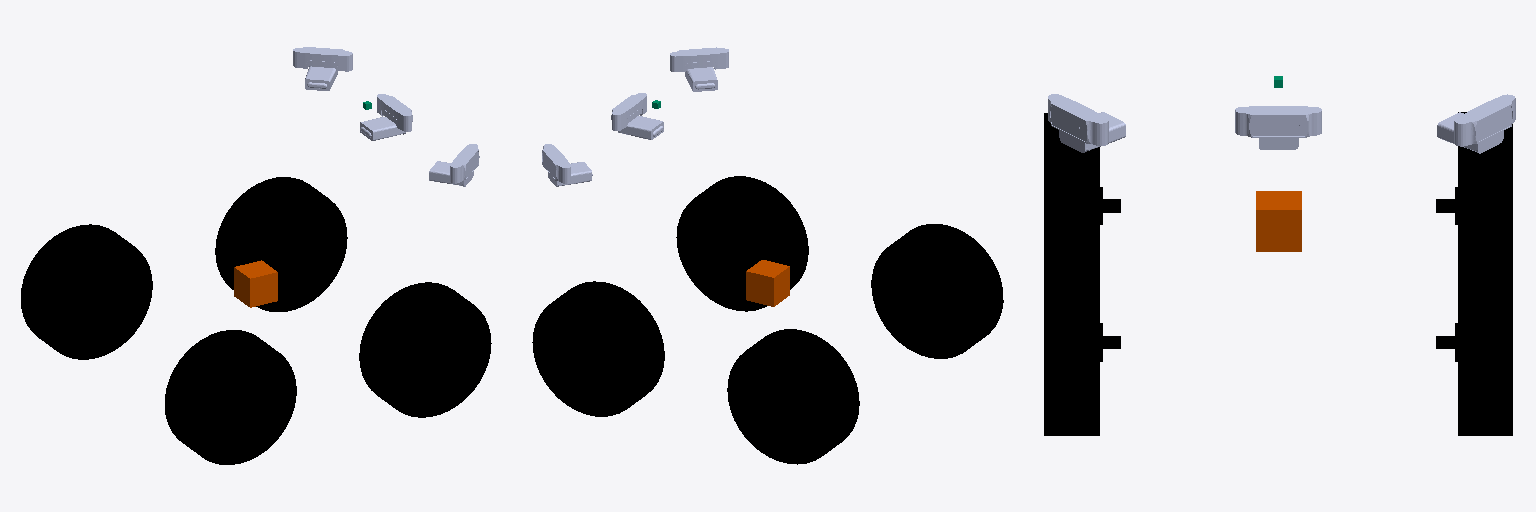
URDF robot description (Diff_Drive):
<robot
  name="Diff_Drive">

<material name="Black">
    <color rgba="0.0 0.0 0.0 1.0"/>
  </material>
 <material name="Red">
    <color rgba="1.0 0.0 0.0 1.0"/>
  </material>
<material name="Purple">
    <color rgba="1.0 0.0 1.0 1.0"/>
  </material>
  <material name="White">
    <color rgba="1.0 1.0 1.0 1.0"/>
  </material>
  <link
    name="chassis">
    <inertial>
      <origin
        xyz="0.0220555760345965 0.161947830488002 0.00246472847078245"
        rpy="0 0 0" />
      <mass
        value="3.20699343904828" />
      <inertia
        ixx="0.13688570826991"
        ixy="0.00644984234900775"
        ixz="0.00140330917613081"
        iyy="0.16416210230146"
        iyz="-0.000333391127469874"
        izz="0.193483332831202" />
    </inertial>
    <visual>
      <origin
        xyz="0 0 0"
        rpy="0 0 0" />
      <geometry>
        <mesh
          filename="package://caric/meshes/base_link.STL" />
      </geometry>
      <material
        name="">
        <color
          rgba="0.792156862745098 0.819607843137255 0.933333333333333 1" />
      </material>
    </visual>
    <collision>
      <origin
        xyz="0 0 0"
        rpy="0 0 0" />
      <geometry>
        <mesh
          filename="package://caric/meshes/base_link.STL" />
      </geometry>
    </collision>
  </link>
  <gazebo reference="chassis">
    <material>Gazebo/Purple</material>
    <turnGravityOff>false</turnGravityOff>
  </gazebo>
  <!--//////////////////////////////////////////////////////////////////////////////////////////WHEELS////////////////////////////////////////////////////////////////////////////////////////-->

  <link
    name="right_front_wheel">
    <inertial>
      <origin
        xyz="0 0 -0.05287"
        rpy="0 0 0" />
      <mass
        value="1.8356" />
      <inertia
        ixx="0.0052782"
        ixy="0"
        ixz="6.9559E-20"
        iyy="0.0052782"
        iyz="-4.3944E-20"
        izz="0.009441" />
    </inertial>
    <visual>
      <origin
        xyz="0 0 0"
        rpy="0 0 0" />
      <geometry>
        <mesh
          filename="package://caric/meshes/wheel1.STL" />
      </geometry>
      <material
        name="">
        <color
          rgba="0 0 0 1" />
      </material>
    </visual>
    <collision>
      <origin
        xyz="0 0 0"
        rpy="0 0 0" />
      <geometry>
        <mesh
          filename="package://caric/meshes/wheel1.STL" />
      </geometry>
    </collision>
  </link>
  <joint
    name="right_front_wheel_joint"
    type="continuous">
    <origin
      xyz="0.175 -0.171 -0.063512"
      rpy="1.5708 0.82674 -3.1416" />
    <parent
      link="chassis" />
    <child
      link="right_front_wheel" />
    <axis
      xyz="0 0 1" />
	<limit effort="100" velocity="100"/>
    <dynamics damping="0.0" friction="0.0"/>
  </joint>
  <gazebo reference="right_front_wheel">
    <material>Gazebo/Red</material>
    <turnGravityOff>false</turnGravityOff>
  </gazebo>
  <transmission name="right_front_wheel_trans">
    <type>transmission_interface/SimpleTransmission</type>
    <actuator name="right_front_wheel_motor">
      <hardwareInterface>EffortJointInterface</hardwareInterface>
      <mechanicalReduction>1</mechanicalReduction>
    </actuator>
    <joint name="right_front_wheel_joint">
      <hardwareInterface>hardware_interface/VelocityJointInterface</hardwareInterface>
    </joint>
  </transmission>




  <link
    name="right_back_wheel">
    <inertial>
      <origin
        xyz="0 -1.3878E-17 -0.05287"
        rpy="0 0 0" />
      <mass
        value="1.8356" />
      <inertia
        ixx="0.0052782"
        ixy="0"
        ixz="1.0627E-19"
        iyy="0.0052782"
        iyz="2.9689E-19"
        izz="0.009441" />
    </inertial>
    <visual>
      <origin
        xyz="0 0 0"
        rpy="0 0 0" />
      <geometry>
        <mesh
          filename="package://caric/meshes/wheel2.STL" />
      </geometry>
      <material
        name="">
        <color
          rgba="0 0 0 1" />
      </material>
    </visual>
    <collision>
      <origin
        xyz="0 0 0"
        rpy="0 0 0" />
      <geometry>
        <mesh
          filename="package://caric/meshes/wheel2.STL" />
      </geometry>
    </collision>
  </link>
  <joint
    name="right_back_wheel_joint"
    type="continuous">
    <origin
      xyz="-0.175 -0.171 -0.063512"
      rpy="1.5708 0.40594 -3.1416" />
    <parent
      link="chassis" />
    <child
      link="right_back_wheel" />
    <axis
      xyz="0 0 1" />
	<limit effort="100" velocity="100"/>
    <dynamics damping="0.0" friction="0.0"/>
  </joint>
<gazebo reference="right_back_wheel">
    <material>Gazebo/Black</material>
    <turnGravityOff>false</turnGravityOff>
  </gazebo>
  <transmission name="right_back_wheel_trans">
    <type>transmission_interface/SimpleTransmission</type>
    <actuator name="right_back_wheel_motor">
      <hardwareInterface>EffortJointInterface</hardwareInterface>
      <mechanicalReduction>1</mechanicalReduction>
    </actuator>
    <joint name="right_back_wheel_joint">
      <hardwareInterface>hardware_interface/VelocityJointInterface</hardwareInterface>
    </joint>
  </transmission>



  <link
    name="left_back_wheel">
    <inertial>
      <origin
        xyz="-1.9984E-15 -1.1102E-16 -0.05287"
        rpy="0 0 0" />
      <mass
        value="1.8356" />
      <inertia
        ixx="0.0052782"
        ixy="9.5979E-36"
        ixz="5.4289E-20"
        iyy="0.0052782"
        iyz="-8.8397E-35"
        izz="0.009441" />
    </inertial>
    <visual>
      <origin
        xyz="0 0 0"
        rpy="0 0 0" />
      <geometry>
        <mesh
          filename="package://caric/meshes/wheel3.STL" />
      </geometry>
      <material
        name="">
        <color
          rgba="0 0 0 1" />
      </material>
    </visual>
    <collision>
      <origin
        xyz="0 0 0"
        rpy="0 0 0" />
      <geometry>
        <mesh
          filename="package://caric/meshes/wheel3.STL" />
      </geometry>
    </collision>
  </link>
  <joint
    name="left_back_wheel_joint"
    type="continuous">
    <origin
      xyz="-0.175 0.171 -0.063512"
      rpy="1.5708 0 0" />
    <parent
      link="chassis" />
    <child
      link="left_back_wheel" />
    <axis
      xyz="0 0 -1" />
	<limit effort="100" velocity="100"/>
    <dynamics damping="0.0" friction="0.0"/>
  </joint>
 <gazebo reference="left_back_wheel">
    <material>Gazebo/Black</material>
    <turnGravityOff>false</turnGravityOff>
  </gazebo>

<transmission name="left_back_wheel_trans">
    <type>transmission_interface/SimpleTransmission</type>
    <actuator name="left_back_wheel_motor">
      <hardwareInterface>EffortJointInterface</hardwareInterface>
      <mechanicalReduction>1</mechanicalReduction>
    </actuator>
    <joint name="left_back_wheel_joint">
      <hardwareInterface>hardware_interface/VelocityJointInterface</hardwareInterface>
    </joint>
  </transmission>


  <link
    name="left_front_wheel">
    <inertial>
      <origin
        xyz="-1.9984E-15 9.7145E-17 -0.05287"
        rpy="0 0 0" />
      <mass
        value="1.8356" />
      <inertia
        ixx="0.0052782"
        ixy="-2.3237E-35"
        ixz="5.4289E-20"
        iyy="0.0052782"
        iyz="4.4199E-35"
        izz="0.009441" />
    </inertial>
    <visual>
      <origin
        xyz="0 0 0"
        rpy="0 0 0" />
      <geometry>
        <mesh
          filename="package://caric/meshes/wheel4.STL" />
      </geometry>
      <material
        name="">
        <color
          rgba="0 0 0 1" />
      </material>
    </visual>
    <collision>
      <origin
        xyz="0 0 0"
        rpy="0 0 0" />
      <geometry>
        <mesh
          filename="package://caric/meshes/wheel4.STL" />
      </geometry>
    </collision>
  </link>
  <joint
    name="left_front_wheel_joint"
    type="continuous">
    <origin
      xyz="0.175 0.171 -0.063512"
      rpy="1.5708 0 0" />
    <parent
      link="chassis" />
    <child
      link="left_front_wheel" />
    <axis
      xyz="0 0 -1" />
	<limit effort="100" velocity="100"/>
    <dynamics damping="0.0" friction="0.0"/>
  </joint>

 <gazebo reference="left_front_wheel">
    <material>Gazebo/Black</material>
    <turnGravityOff>false</turnGravityOff>
  </gazebo>
 <transmission name="left_front_wheel_trans">
    <type>transmission_interface/SimpleTransmission</type>
    <actuator name="left_front_wheel_motor">
      <hardwareInterface>EffortJointInterface</hardwareInterface>
      <mechanicalReduction>1</mechanicalReduction>
    </actuator>
    <joint name="left_front_wheel_joint">
      <hardwareInterface>hardware_interface/VelocityJointInterface</hardwareInterface>
    </joint>
  </transmission>

<!-- //////////////////////////////////////////////////////////////////////////ROS CONTROL PLUGIN/////////////////////////////////////////////////////////////////////////////////// -->
  <!-- -->
  <gazebo>
    <plugin filename="libgazebo_ros_control.so" name="gazebo_ros_control">
<legacyMode>false</legacyMode>
    </plugin>
  </gazebo>

<!-- ////////////////////////////////////////////////////////////////////////////////IMU//////////////////////////////////////////////////////////////////////////////////////////// -->
  <!--  -->
<link name="imu_link">
    <inertial>
        <mass value="0.001" />
        <origin xyz="0 0 0" />
        <inertia ixx="0.001" ixy="0.0" ixz="0.0"
                 iyy="0.001" iyz="0.0" 
                 izz="0.001" />
    </inertial>     
        <visual>
        <origin xyz="0 0 0" rpy="0 0 0" />
        <geometry>
            <box size = "0.05 0.05 0.05"/> 
                </geometry>
        </visual>   
    </link>

<joint name="imu_joint" type="fixed">
    <axis xyz="0 0 0"/>
    <origin xyz="0 0 0" rpy="0 0 0" />
    <parent link="chassis"/>
    <child link="imu_link" />
</joint>

<gazebo>    
    <plugin name="imu_plugin" filename="libgazebo_ros_imu.so">
        <alwaysOn>true</alwaysOn>       
        <bodyName>imu_link</bodyName>
        <topicName>imu</topicName>
        <serviceName>imu_service</serviceName>
        <gaussianNoise>0.0</gaussianNoise>
        <updateRate>200.0</updateRate> 
    </plugin>
	<sensor>
        <imu>
           <noise>
               <type>gaussian</type>
               <rate>
                   <mean>1e-4</mean>
                   <bias_mean>1e-4</bias_mean>
               </rate>
               <accel>
                   <mean>4e-3</mean>
                   <bias_mean>4e-3</bias_mean>
               </accel>
           </noise>
        </imu> 
        </sensor>
</gazebo>


<!-- ////////////////////////////////////////////////////////////////////////////////////////CAMERAS/////////////////////////////////////////////////////////////////////////////////////// -->
<!-- CENTER CAMERA -->
  <link
    name="Camera_Center">
    <inertial>
      <origin
        xyz="-0.023314 2.6056E-05 -0.0096081"
        rpy="0 0 0" />
      <mass
        value="0.092559" />
      <inertia
        ixx="5.2651E-05"
        ixy="2.5917E-08"
        ixz="-1.1292E-05"
        iyy="4.2146E-05"
        iyz="2.0055E-08"
        izz="6.5177E-05" />
    </inertial>
    <visual>
      <origin
        xyz="0 0 0"
        rpy="0 0 0" />
      <geometry>
        <mesh
          filename="package://caric/meshes/camera_c.STL" />
      </geometry>
      <material
        name="">
        <color
          rgba="0.79216 0.81961 0.93333 1" />
      </material>
    </visual>
    <collision>
      <origin
        xyz="0 0 0"
        rpy="0 0 0" />
      <geometry>
        <mesh
          filename="package://caric/meshes/camera_c.STL" />
      </geometry>
    </collision>
  </link>

  <joint
    name="cameraC_joint"
    type="fixed">
    <origin
      xyz="0.26303 0 0.23592"
      rpy="-6.123E-17 0 0" />
    <parent
      link="chassis" />
    <child
      link="Camera_Center" />
    <axis
      xyz="0 0 0" />
  </joint>
  <gazebo reference="Camera_Center">
    <sensor type="camera" name="cameraC">
      <update_rate>30.0</update_rate>
      <camera name="head">
        <horizontal_fov>1.36136</horizontal_fov>
        <image>
          <width>640</width>
          <height>480</height>
          <format>R8G8B8</format>
        </image>
        <clip>
          <near>0.02</near>
          <far>300</far>
        </clip>
        <noise>
          <type>gaussian</type>
          <!-- Noise is sampled independently per pixel on each frame.
               That pixel's noise value is added to each of its color
               channels, which at that point lie in the range [0,1]. -->
          <mean>0.0</mean>
          <stddev>0.007</stddev>
        </noise>
      </camera>
      <plugin name="camera_controller" filename="libgazebo_ros_camera.so">
        <alwaysOn>true</alwaysOn>
        <updateRate>0.0</updateRate>
        <cameraName>cameraC</cameraName>
        <imageTopicName>image_raw</imageTopicName>
        <cameraInfoTopicName>camera_info</cameraInfoTopicName>
        <frameName>center_camera</frameName>
        <hackBaseline>0.07</hackBaseline>
        <Cx>9.54542096e+02</Cx>
         <Cy>5.31043551e+02</Cy>
		<Fx>1.43129189e+03</Fx>
         <Fy>1.42867337e+03</Fy>
        <hackBaseline>0.07</hackBaseline>
        <distortionK1>0.03307883</distortionK1>
        <distortionK2>-0.04645629</distortionK2>
        <distortionK3>-0.00620612</distortionK3>
        <distortionT1>-0.00104783</distortionT1>
        <distortionT2>-0.01454176</distortionT2>
      </plugin>
    </sensor>
  </gazebo>

<!-- LEFT CAMERA -->
  <link
    name="Camera_Left">
    <inertial>
      <origin
        xyz="-0.023314 1.9345E-05 -0.0096081"
        rpy="0 0 0" />
      <mass
        value="0.092559" />
      <inertia
        ixx="5.2651E-05"
        ixy="2.5963E-08"
        ixz="-1.1292E-05"
        iyy="4.2146E-05"
        iyz="2.0062E-08"
        izz="6.5177E-05" />
    </inertial>
    <visual>
      <origin
        xyz="0 0 0"
        rpy="0 0 0" />
      <geometry>
        <mesh
          filename="package://caric/meshes/camera_l.STL" />
      </geometry>
      <material
        name="">
        <color
          rgba="0.79216 0.81961 0.93333 1" />
      </material>
    </visual>
    <collision>
      <origin
        xyz="0 0 0"
        rpy="0 0 0" />
      <geometry>
        <mesh
          filename="package://caric/meshes/camera_l.STL" />
      </geometry>
    </collision>
  </link>
  <joint
    name="cameraL_joint"
    type="fixed">
    <origin
      xyz="0.25843 0.23417 0.23692"
      rpy="-3.9358E-17 4.6905E-17 0.87266" />
    <parent
      link="chassis" />
    <child
      link="Camera_Left" />
    <axis
      xyz="0 0 0" />
  </joint>

  <gazebo reference="Camera_Left">
    <sensor type="camera" name="cameraL">
      <update_rate>30.0</update_rate>
      <camera name="head">
        <horizontal_fov>1.36136</horizontal_fov>
        <image>
          <width>640</width>
          <height>480</height>
          <format>R8G8B8</format>
        </image>
        <clip>
          <near>0.02</near>
          <far>300</far>
        </clip>
        <noise>
          <type>gaussian</type>
          <!-- Noise is sampled independently per pixel on each frame.
               That pixel's noise value is added to each of its color
               channels, which at that point lie in the range [0,1]. -->
          <mean>0.0</mean>
          <stddev>0.007</stddev>
        </noise>
      </camera>
      <plugin name="camera_controller" filename="libgazebo_ros_camera.so">
        <alwaysOn>true</alwaysOn>
        <updateRate>0.0</updateRate>
        <cameraName>cameraL</cameraName>
        <imageTopicName>image_raw</imageTopicName>
        <cameraInfoTopicName>camera_info</cameraInfoTopicName>
        <frameName>left_camera</frameName>
        <hackBaseline>0.07</hackBaseline>
        <Cx>9.54542096e+02</Cx>
         <Cy>5.31043551e+02</Cy>
		<Fx>1.43129189e+03</Fx>
         <Fy>1.42867337e+03</Fy>
        <hackBaseline>0.07</hackBaseline>
        <distortionK1>0.03307883</distortionK1>
        <distortionK2>-0.04645629</distortionK2>
        <distortionK3>-0.00620612</distortionK3>
        <distortionT1>-0.00104783</distortionT1>
        <distortionT2>-0.01454176</distortionT2>
      </plugin>
    </sensor>
  </gazebo>

<!-- RIGHT CAMERA -->
  <link
    name="Camera_Right">
    <inertial>
      <origin
        xyz="-0.023314 1.9332E-05 -0.0096081"
        rpy="0 0 0" />
      <mass
        value="0.092559" />
      <inertia
        ixx="5.2651E-05"
        ixy="2.5876E-08"
        ixz="-1.1292E-05"
        iyy="4.2146E-05"
        iyz="2.0049E-08"
        izz="6.5177E-05" />
    </inertial>
    <visual>
      <origin
        xyz="0 0 0"
        rpy="0 0 0" />
      <geometry>
        <mesh
          filename="package://caric/meshes/camera_r.STL" />
      </geometry>
      <material
        name="">
        <color
          rgba="0.79216 0.81961 0.93333 1" />
      </material>
    </visual>
    <collision>
      <origin
        xyz="0 0 0"
        rpy="0 0 0" />
      <geometry>
        <mesh
          filename="package://caric/meshes/camera_r.STL" />
      </geometry>
    </collision>
  </link>
  <joint
    name="cameraR_joint"
    type="fixed">
    <origin
      xyz="0.25737 -0.22806 0.23692"
      rpy="-3.9358E-17 -4.6905E-17 -0.87266" />
    <parent
      link="chassis" />
    <child
      link="Camera_Right" />
    <axis
      xyz="0 0 0" />
  </joint>
  <gazebo reference="Camera_Right">
    <sensor type="camera" name="cameraR">
      <update_rate>30.0</update_rate>
      <camera name="head">
        <horizontal_fov>1.36136</horizontal_fov>
        <image>
          <width>640</width>
          <height>480</height>
          <format>R8G8B8</format>
        </image>
        <clip>
          <near>0.02</near>
          <far>300</far>
        </clip>
        <noise>
          <type>gaussian</type>
          <!-- Noise is sampled independently per pixel on each frame.
               That pixel's noise value is added to each of its color
               channels, which at that point lie in the range [0,1]. -->
          <mean>0.0</mean>
          <stddev>0.007</stddev>
        </noise>
      </camera>
      <plugin name="camera_controller" filename="libgazebo_ros_camera.so">
        <alwaysOn>true</alwaysOn>
        <updateRate>0.0</updateRate>
        <cameraName>cameraR</cameraName>
        <imageTopicName>image_raw</imageTopicName>
        <cameraInfoTopicName>camera_info</cameraInfoTopicName>
        <frameName>right_camera</frameName>
        <hackBaseline>0.07</hackBaseline>
        <Cx>9.54542096e+02</Cx>
         <Cy>5.31043551e+02</Cy>
		<Fx>1.43129189e+03</Fx>
         <Fy>1.42867337e+03</Fy>
        <hackBaseline>0.07</hackBaseline>
        <distortionK1>0.03307883</distortionK1>
        <distortionK2>-0.04645629</distortionK2>
        <distortionK3>-0.00620612</distortionK3>
        <distortionT1>-0.00104783</distortionT1>
        <distortionT2>-0.01454176</distortionT2>
      </plugin>
    </sensor>
  </gazebo>

<!-- /////////////////////////////////////////////////////////////////////////////////////////GPS//////////////////////////////////////////////////////////////////////////////////////////// -->
  <!-- gps-->
<joint name="gps_joint" type="fixed">
    <axis xyz="0 1 0" />
    <origin xyz="0 0 0.01" rpy="0 0 0"/>
    <parent link="chassis"/>
    <child link="gps_link"/>
  </joint>

  <!-- gps -->
  <link name="gps_link">
    <visual>
      <origin xyz="0 0 0" rpy="0 0 0"/>
      <geometry>
    <box size="0.01 0.01 0.01"/>
      </geometry>
      <material name="red"/>
    </visual>

    <inertial>
      <mass value="1e-5" />
      <origin xyz="0 0 0" rpy="0 0 0"/>
      <inertia ixx="1e-6" ixy="0" ixz="0" iyy="1e-6" iyz="0" izz="1e-6" />
    </inertial>
  </link>


<gazebo>
    <plugin  name='gazebo_ros_gps' filename='libhector_gazebo_ros_gps.so'>
      <updateRate>50.0</updateRate>
      <bodyName>gps_link</bodyName>
      <frameId>gps_link</frameId>
      <topicName>/gps/fix</topicName>
      <velocityTopicName>/gps/fix_velocity</velocityTopicName>
      <referenceLatitude>-30.06022459407145675</referenceLatitude>
      <referenceLongitude>-51.173913575780311191</referenceLongitude>
      <referenceHeading>90</referenceHeading>
      <referenceAltitude>10</referenceAltitude>
      <offset>0 0 0</offset>
      <drift>0.001 0.001 0.001</drift>
      <gaussianNoise>0.05 0.05 0.05</gaussianNoise>
      <velocityDrift>0.001 0.001 0.001</velocityDrift>
      <velocityGaussianNoise>0.5 0.5 0.5</velocityGaussianNoise>
      <!--                <drift>0.001 0.001 0.001</drift>-->
      <!--                <gaussianNoise>0.01 0.01 0.01</gaussianNoise>-->
      <!--                <velocityDrift>0 0 0</velocityDrift>-->
      <!--                <velocityGaussianNoise>0.05 0.05 0.05</velocityGaussianNoise>-->
    </plugin>
  </gazebo>



<joint name="laser_joint" type="fixed">
    <axis xyz="0 1 0" />
    <origin xyz="0.20 0 0.26" rpy="0 0 0"/>
    <parent link="chassis"/>
    <child link="laser_scanner"/>
  </joint>

  <!-- laser -->
  <link name="laser_scanner">
    <visual>
      <origin xyz="0 0 0" rpy="0 0 0"/>
      <geometry>
    <box size="0.01 0.01 0.01"/>
      </geometry>
      <material name="red"/>
    </visual>

    <inertial>
      <mass value="1e-5" />
      <origin xyz="0 0 0" rpy="0 0 0"/>
      <inertia ixx="1e-6" ixy="0" ixz="0" iyy="1e-6" iyz="0" izz="1e-6" />
    </inertial>
  </link>
  <gazebo reference="laser_scanner">
    <sensor type="ray" name="head_hokuyo_sensor">
      <pose>0 0 0 0 0 0</pose>
      <visualize>true</visualize>
      <update_rate>40</update_rate>
      <ray>
        <scan>
          <horizontal>
            <samples>120</samples>
            <resolution>1</resolution>
            <min_angle>-1.570796</min_angle>
            <max_angle>1.570796</max_angle>
          </horizontal>
        </scan>
        <range>
          <min>0.8</min>
          <max>5.0</max>
          <resolution>0.01</resolution>
        </range>
        <noise>
          <type>gaussian</type>
          <!-- Noise parameters based on published spec for Hokuyo laser
               achieving "+-30mm" accuracy at range < 10m.  A mean of 0.0m and
               stddev of 0.01m will put 99.7% of samples within 0.03m of the true
               reading. -->
          <mean>0.0</mean>
          <stddev>0.01</stddev>
        </noise>
      </ray>
      <plugin name="gazebo_ros_head_hokuyo_controller" filename="libgazebo_ros_laser.so">
        <topicName>/scan</topicName>
        <frameName>laser_scanner</frameName>
      </plugin>
    </sensor>
  </gazebo>
</robot>

--- Render facts (derived) ---
The picture shows the robot from 3 angles, left to right: view 1: azimuth 30°, elevation 25°; view 2: azimuth 150°, elevation 25°; view 3: azimuth 270°, elevation 25°; orthographic projection.
Robot: Diff_Drive — 11 links, 10 joints (4 continuous, 6 fixed); root link chassis; default pose: all joints at 0.
Visible links, largest first — view 1: right_front_wheel, left_back_wheel, right_back_wheel, left_front_wheel, Camera_Left, imu_link, Camera_Center, Camera_Right; view 2: left_front_wheel, left_back_wheel, right_back_wheel, right_front_wheel, Camera_Right, imu_link, Camera_Center, Camera_Left; view 3: right_front_wheel, left_front_wheel, right_back_wheel, left_back_wheel, Camera_Center, Camera_Left, Camera_Right, imu_link.
Boxes of the visible links, x1,y1,x2,y2 form: right_front_wheel: (359,282,491,417); left_back_wheel: (21,224,152,359); right_back_wheel: (165,330,296,464); left_front_wheel: (215,177,347,311); Camera_Left: (293,47,352,90); imu_link: (234,260,277,307); Camera_Center: (360,94,412,140); Camera_Right: (429,144,479,186); left_front_wheel: (532,281,664,416); left_back_wheel: (727,329,859,464); right_back_wheel: (871,224,1003,358); right_front_wheel: (676,176,808,311); Camera_Right: (670,47,728,91); imu_link: (746,260,789,306); Camera_Center: (611,93,663,139); Camera_Left: (542,144,592,186); right_front_wheel: (1044,249,1120,435); left_front_wheel: (1436,249,1512,435); right_back_wheel: (1044,113,1120,248); left_back_wheel: (1436,112,1512,248); Camera_Center: (1235,106,1321,149); Camera_Left: (1437,94,1515,153); Camera_Right: (1048,94,1125,152); imu_link: (1256,191,1301,251).
Bounding box of the posed robot: 0.564 × 0.5108 × 0.4301 m (x, y, z).
7 mesh visuals loaded from 8 distinct referenced files (7 binary STL); not drawn: 1 (reference not matched to a file when rendering).
